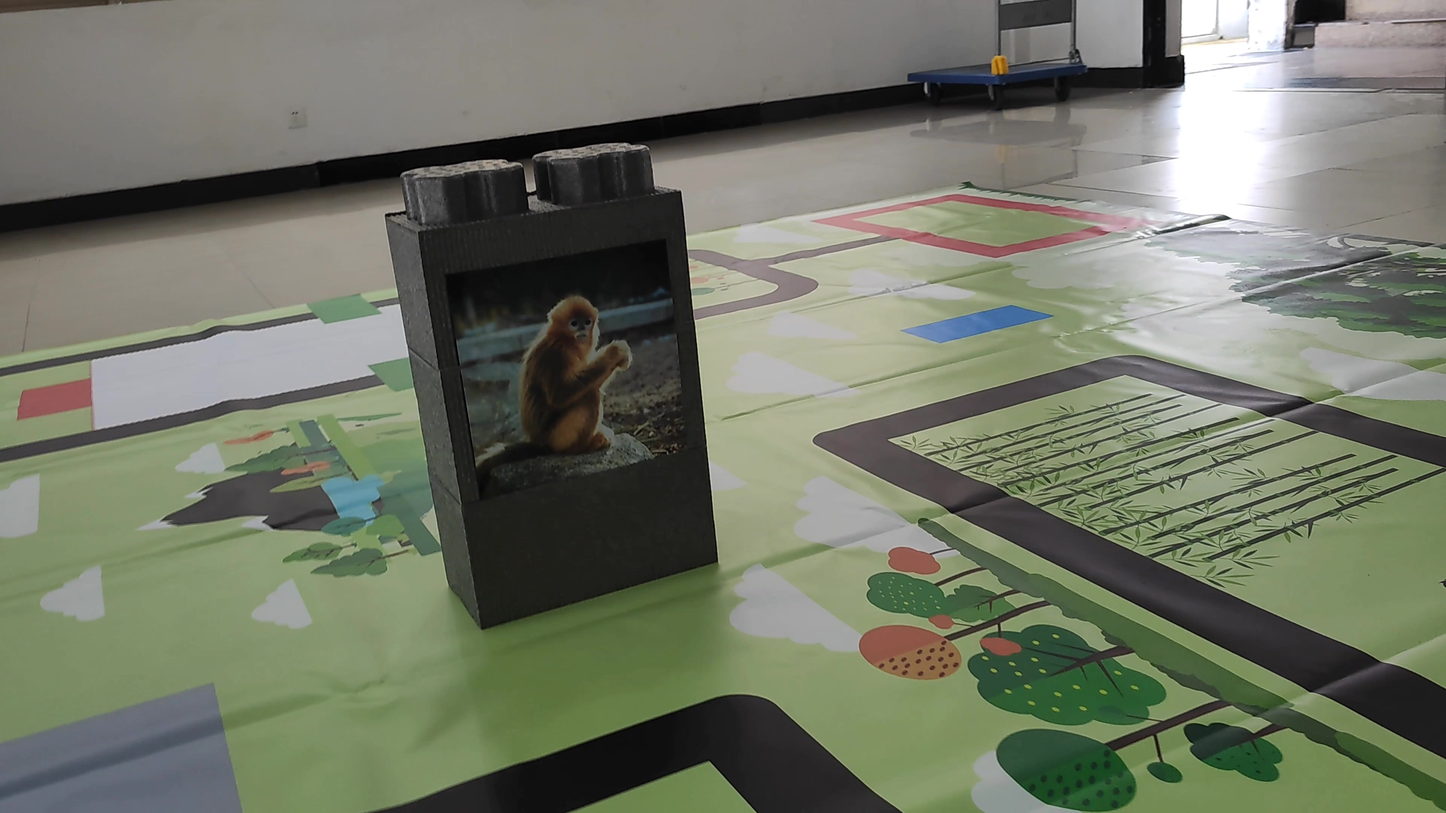monkey: (476, 277, 654, 469)
